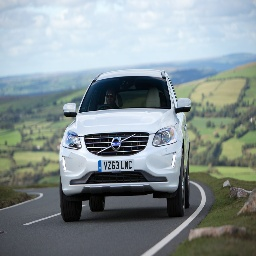sv_licence_plate: (97, 160, 135, 171)
